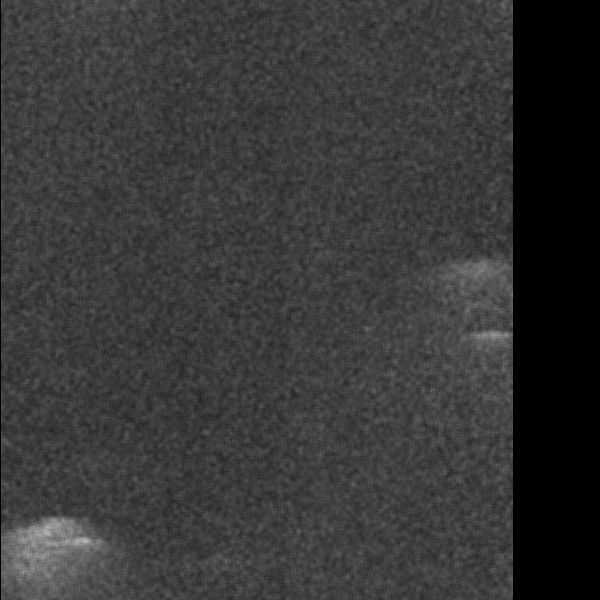spark: (247, 551, 333, 589), (85, 388, 113, 455)
